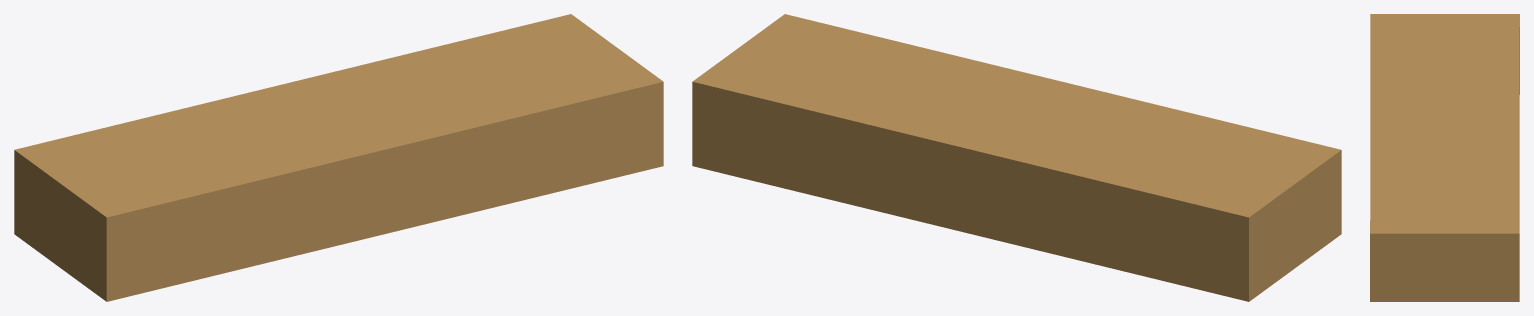
The picture shows the model from 3 angles, left to right: view 1: azimuth 30°, elevation 25°; view 2: azimuth 150°, elevation 25°; view 3: azimuth 270°, elevation 25°; orthographic projection. The views are drawn at different scales.
Visible parts, largest first — view 1: __delivery_mesh_5250; view 2: __delivery_mesh_5250; view 3: __delivery_mesh_5250.
Part boxes in pixels (<box>): __delivery_mesh_5250: <box>14,14,663,301</box>; __delivery_mesh_5250: <box>692,14,1341,301</box>; __delivery_mesh_5250: <box>1370,14,1519,301</box>.
Bounding box in the file's own units: 0.3105 × 0.045 × 0.0894.
